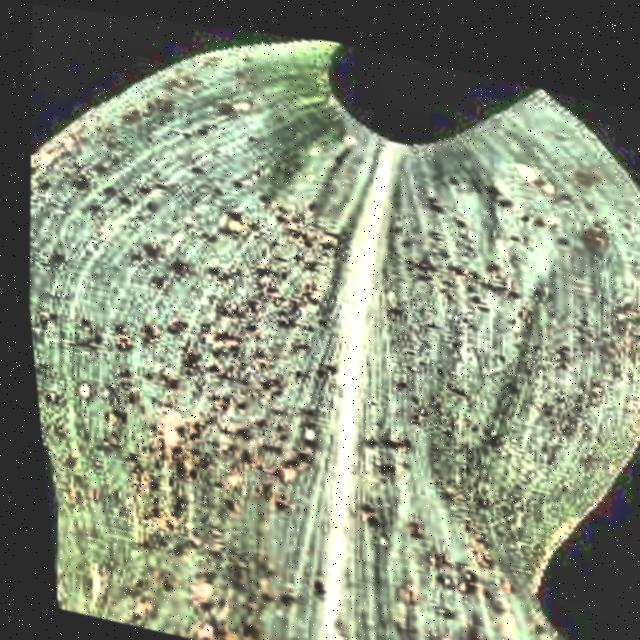common_rust: (8, 44, 640, 640)
